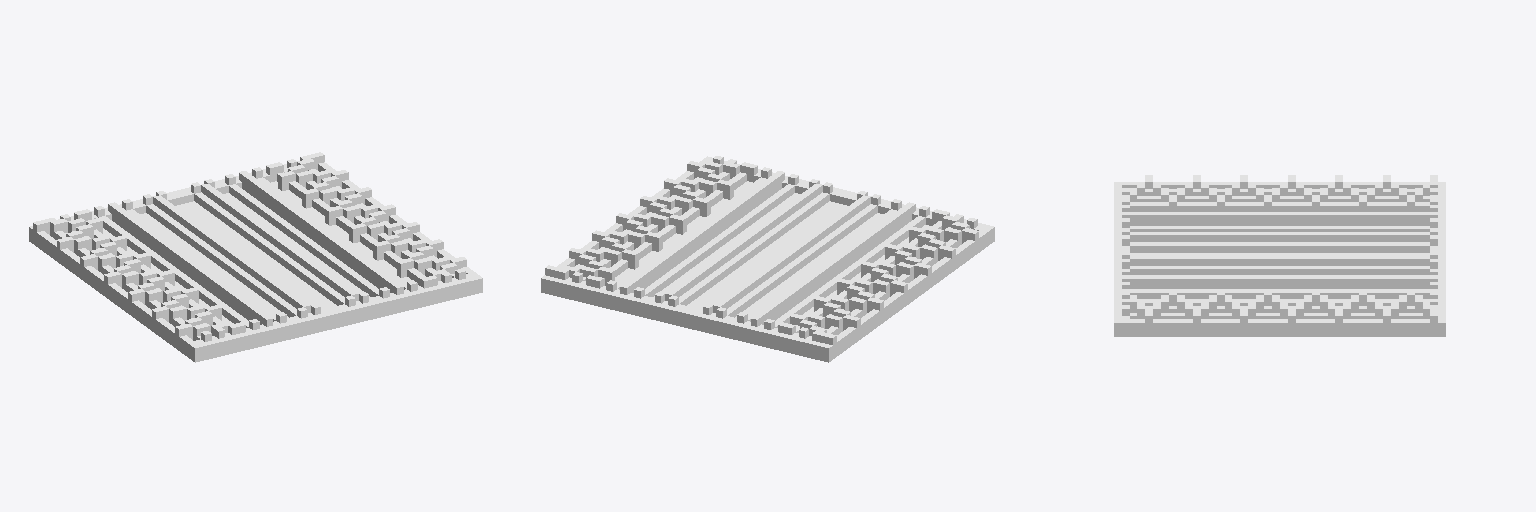
File: Wall-1.obj
3 views of the same model, side by side, from view 1: azimuth 30°, elevation 25°; view 2: azimuth 150°, elevation 25°; view 3: azimuth 270°, elevation 25° (orthographic).
Visible parts, largest first — view 1: Wall-1; view 2: Wall-1; view 3: Wall-1.
Part boxes in pixels (left/top/right/bottom): Wall-1: left=29, top=152, right=482, bottom=362; Wall-1: left=541, top=156, right=994, bottom=362; Wall-1: left=1114, top=175, right=1445, bottom=336.
Size of the model in its own units: 42 by 3 by 42.